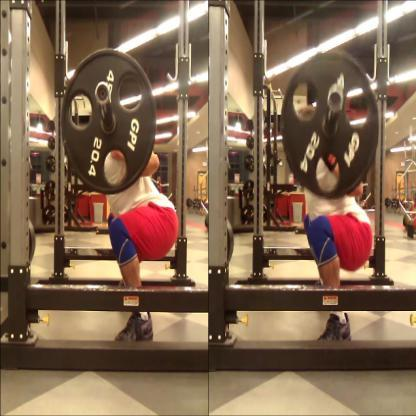Barbell: (328, 84, 346, 116), (95, 82, 113, 107)
